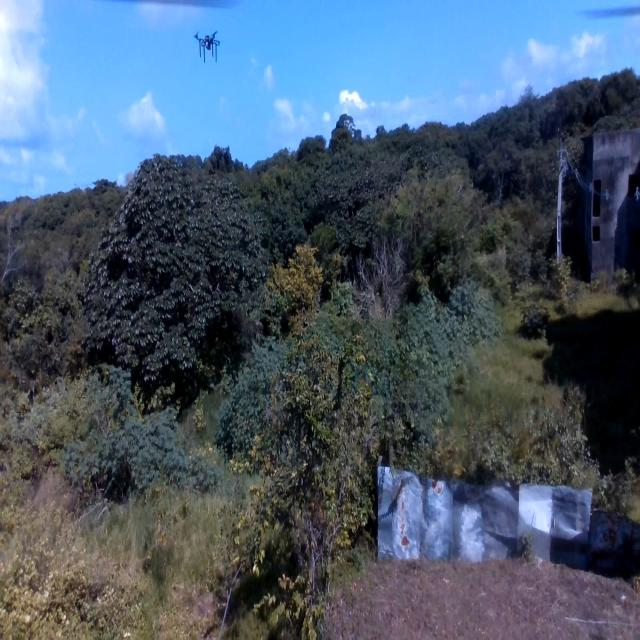-uav-: (187, 22, 236, 84)
